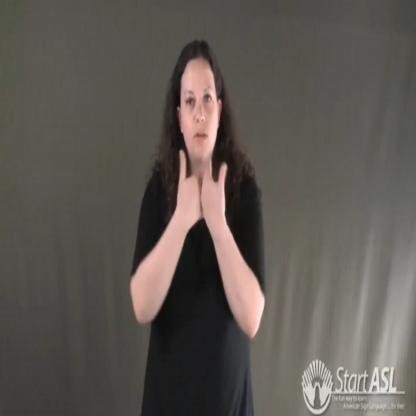HowAreYou: (171, 138, 234, 246)
